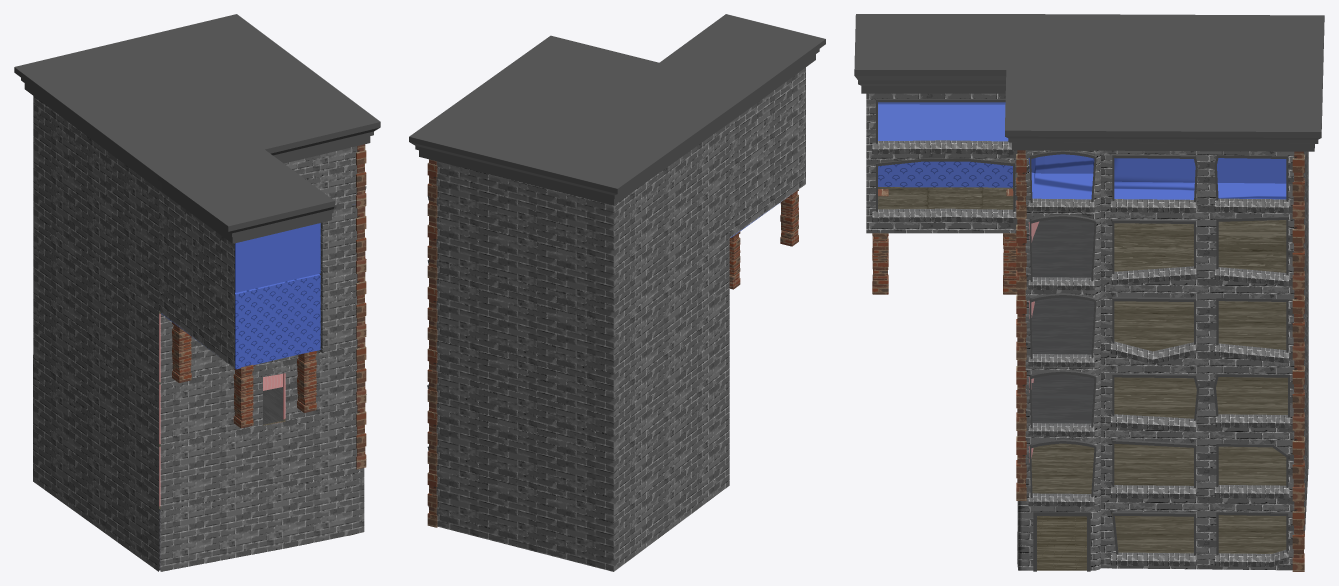
File: Main Building old.fbx
The picture shows the model from 3 angles, left to right: view 1: azimuth 30°, elevation 25°; view 2: azimuth 150°, elevation 25°; view 3: azimuth 270°, elevation 25°; orthographic projection. The views are drawn at different scales.
Visible parts, largest first — view 1: Main_Building_Front, Floor_5_Extra_Apartment, Floor_6, Floor_3_Hallway; view 2: Main_Building_Front; view 3: Main_Building_Front, Floor_6, Floor_5, Floor_4, Floor_5_Extra_Apartment, Floor_3, Floor_2, Floor_1, Floor_5_Hallway, Floor_4_Hallway, Floor_2_Hallway, Floor_3_Hallway (+1 smaller).
Part boxes in pixels (<box>): Main_Building_Front: <box>14,14,380,571</box>; Floor_5_Extra_Apartment: <box>161,274,320,369</box>; Floor_6: <box>235,223,320,292</box>; Floor_3_Hallway: <box>159,373,285,443</box>; Main_Building_Front: <box>409,14,825,571</box>; Main_Building_Front: <box>854,14,1324,571</box>; Floor_6: <box>878,102,1286,199</box>; Floor_5: <box>1114,220,1286,272</box>; Floor_4: <box>1114,301,1286,351</box>; Floor_5_Extra_Apartment: <box>878,161,1013,209</box>; Floor_3: <box>1114,377,1287,418</box>; Floor_2: <box>1114,443,1286,485</box>; Floor_1: <box>1111,513,1286,553</box>; Floor_5_Hallway: <box>1028,218,1094,277</box>; Floor_4_Hallway: <box>1028,297,1094,354</box>; Floor_2_Hallway: <box>1028,443,1094,493</box>; Floor_3_Hallway: <box>1028,374,1094,423</box>.
Bounding box in the file's own units: 51.79 × 91.21 × 87.1.
